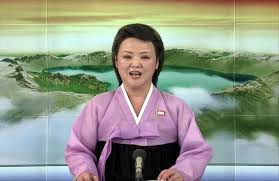person: (112, 23, 164, 88)
